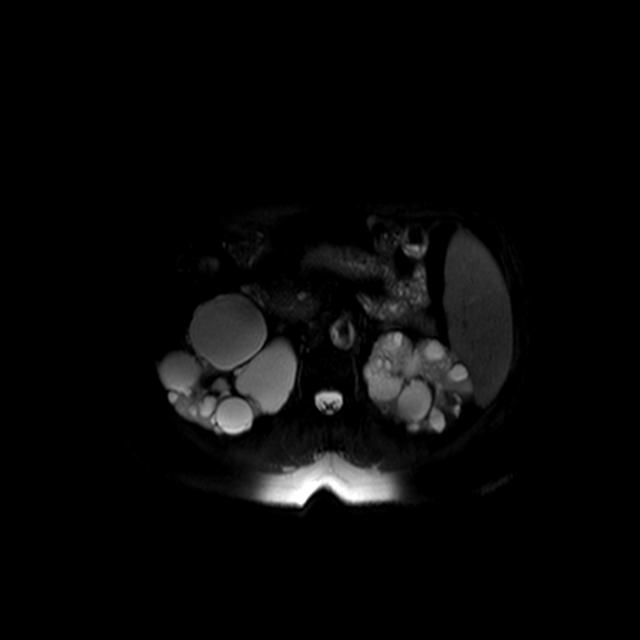sag: (159, 294, 300, 434)
sol: (364, 331, 472, 432)
